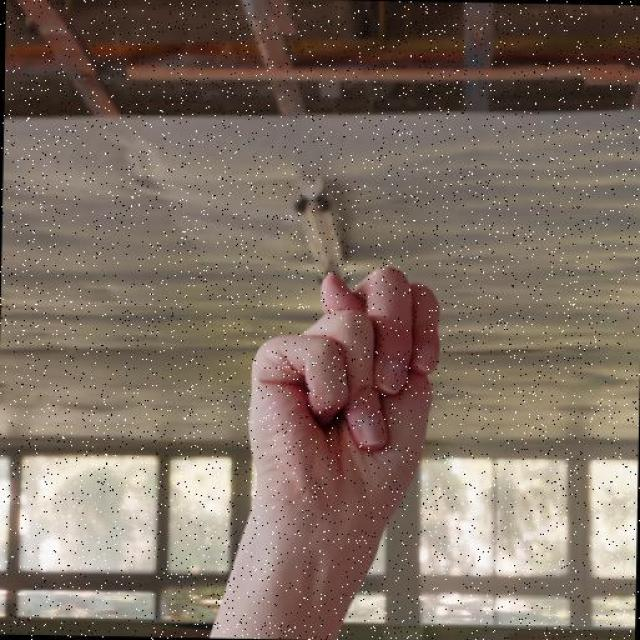N: (242, 260, 447, 528)
